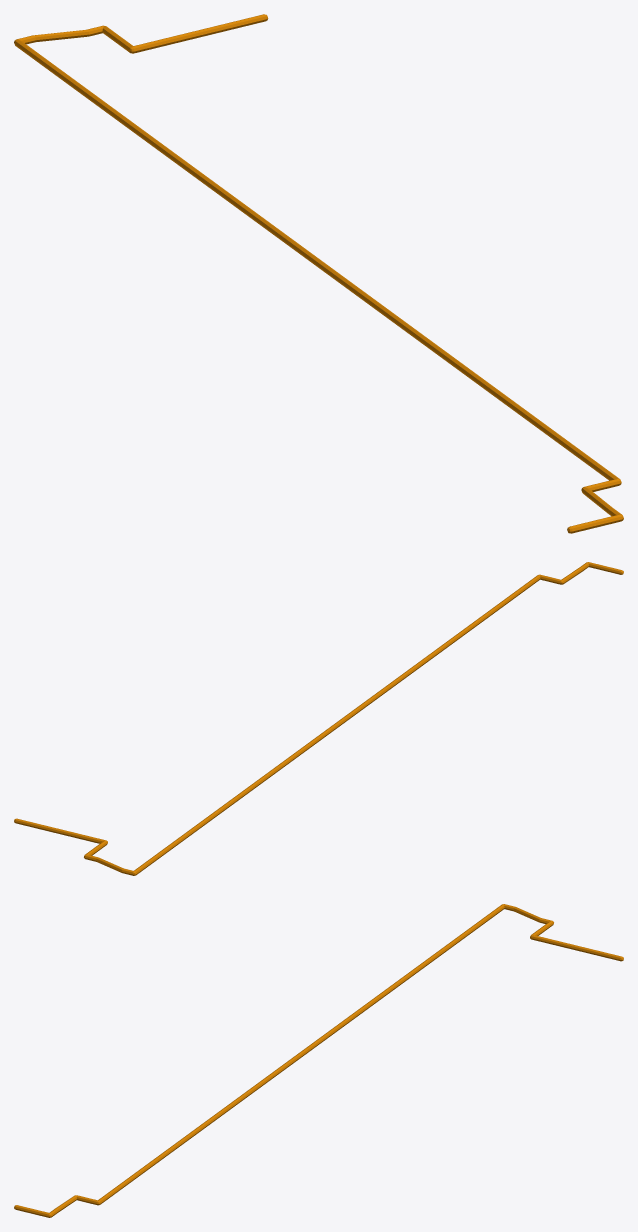
The picture shows the model from 3 angles, top to bottom: view 1: azimuth 30°, elevation 25°; view 2: azimuth 150°, elevation 25°; view 3: azimuth 330°, elevation 25°; orthographic projection. The views are drawn at different scales.
Bounding box in the file's own units: 914 × 20 × 3365.
